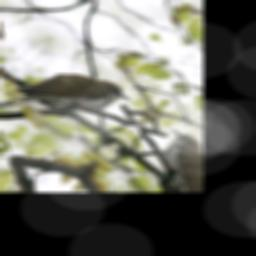Cuckoo: (0, 42, 135, 166)
